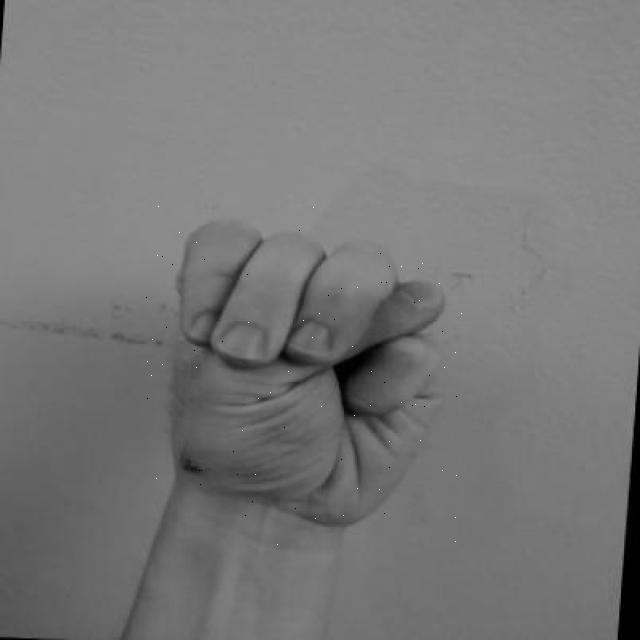M: (146, 205, 464, 545)
